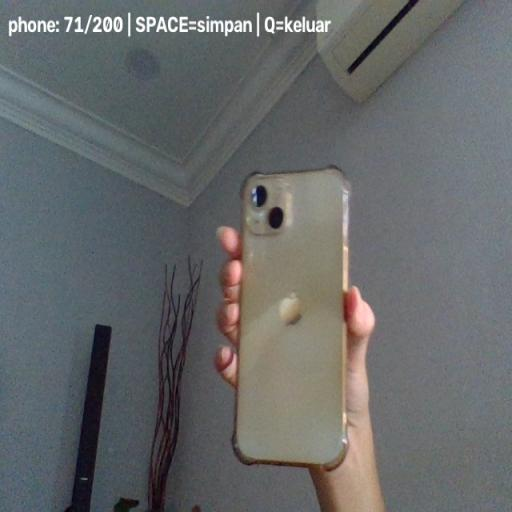Phone: (231, 166, 351, 472)
